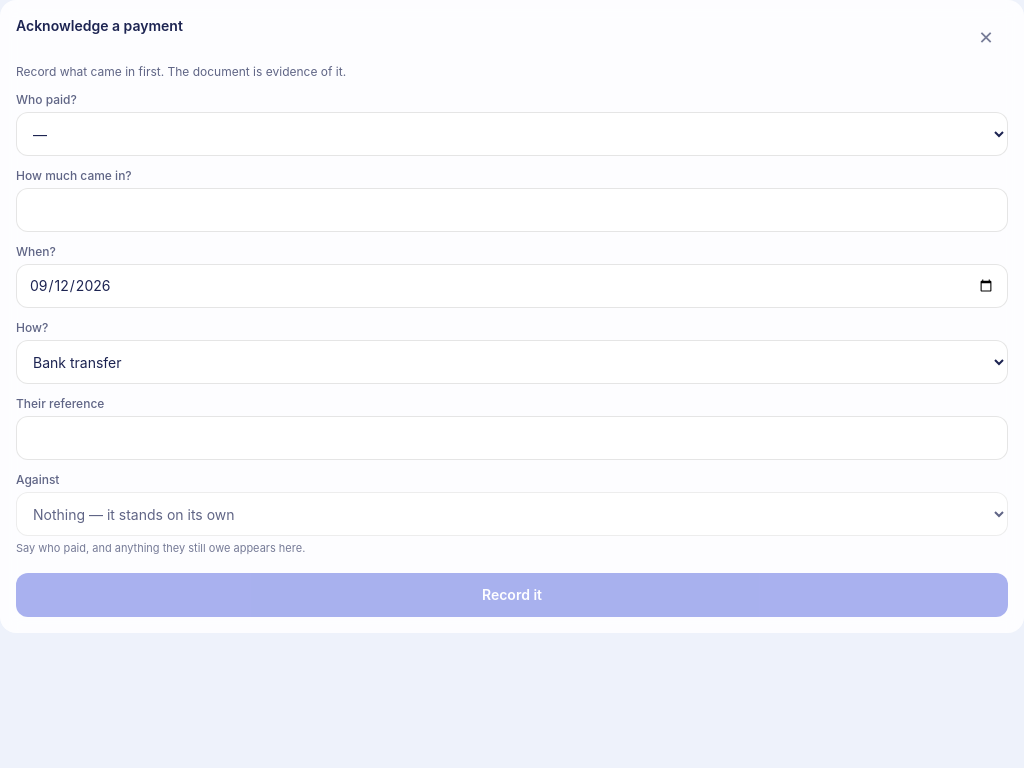
Standing alone is a choice, said out loud (§G, §K) › says what happens to money nothing is billed for
This screenshot has width=1024, height=768.
Select "Ade Stores" in the dropdown labelled "Who paid?" at (512, 134), box 16,112 -> 1008,156
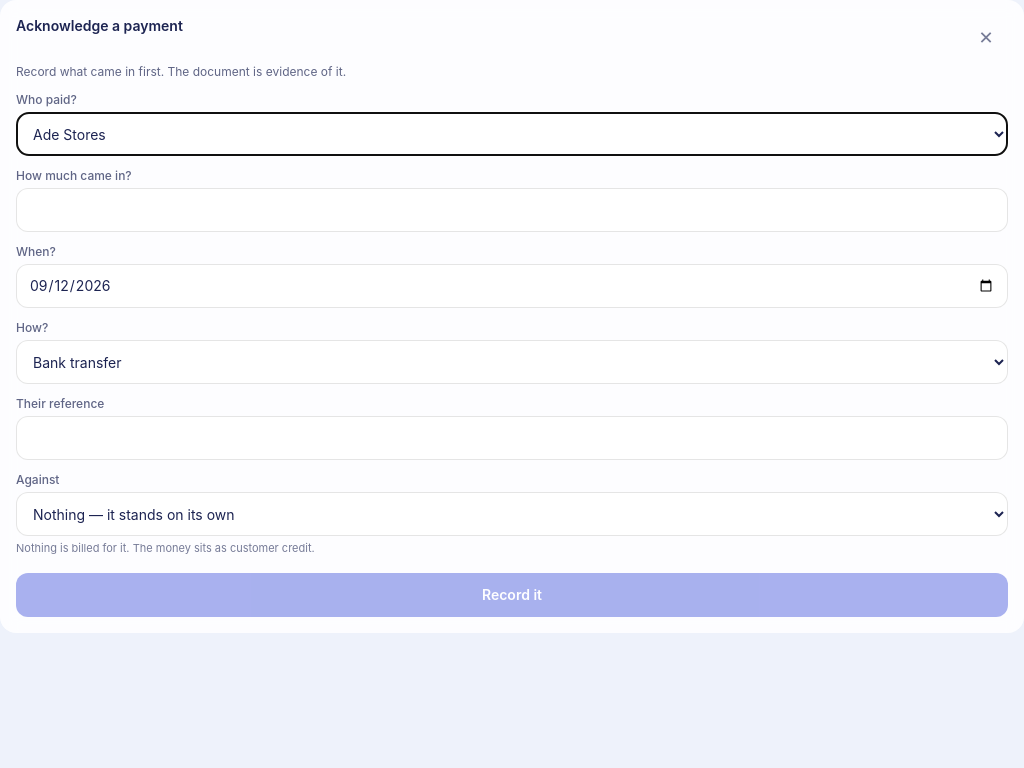
Check: the text "Nothing is billed for it. The money sits as customer credit." is shown, box 16,541 -> 315,555
